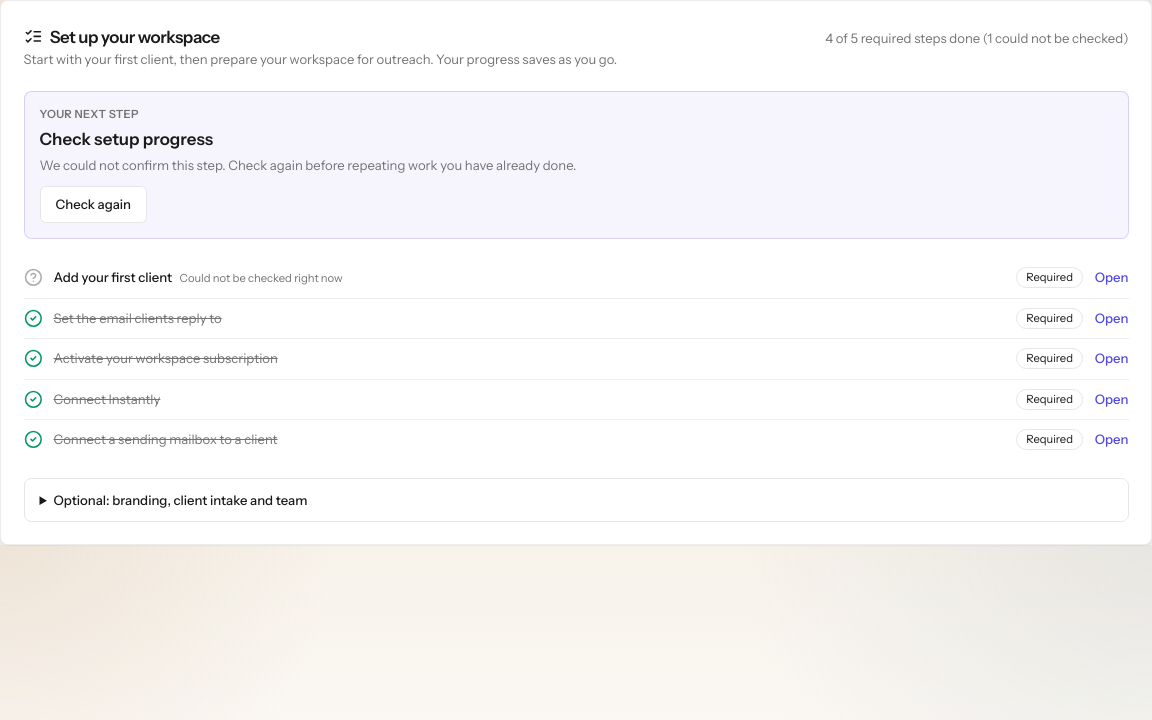
Test: SetupChecklist › rechecks an unknown prerequisite before recommending later steps
Expected: the text "Check setup progress" is shown, [40,129,213,149]
Click the button "Check again". click: {"x": 93, "y": 205}
box: [40,186,147,223]
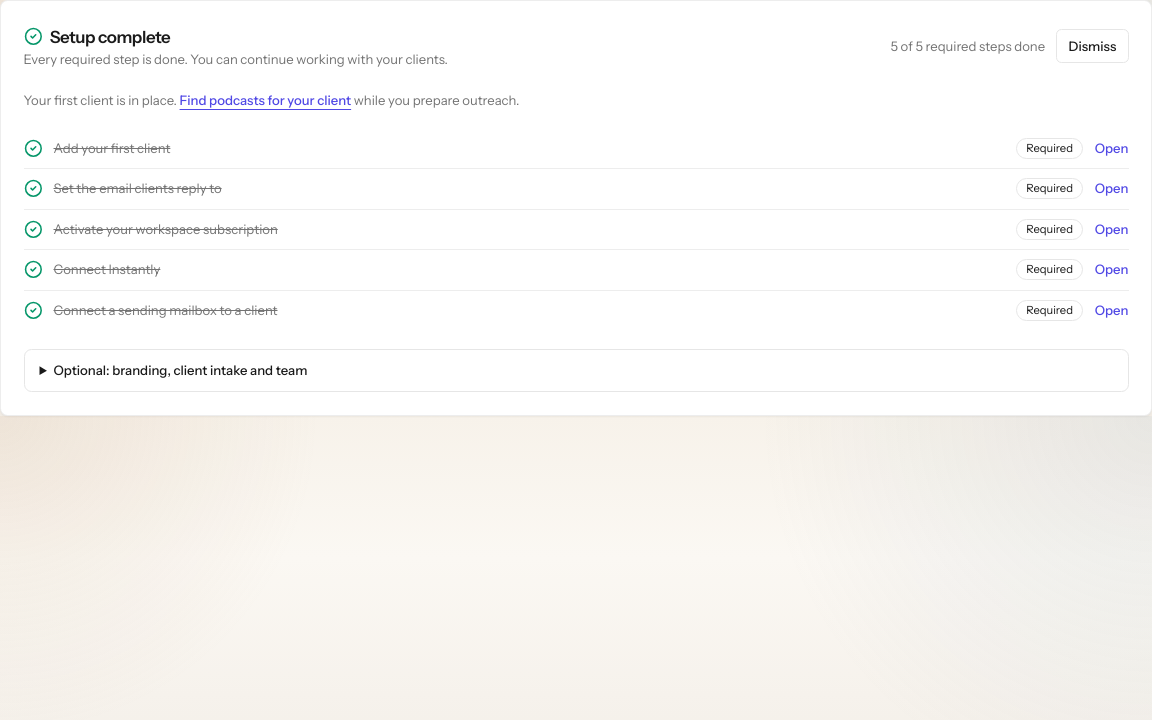
Now the text "Setup complete" is shown, box [24,26,170,46]
